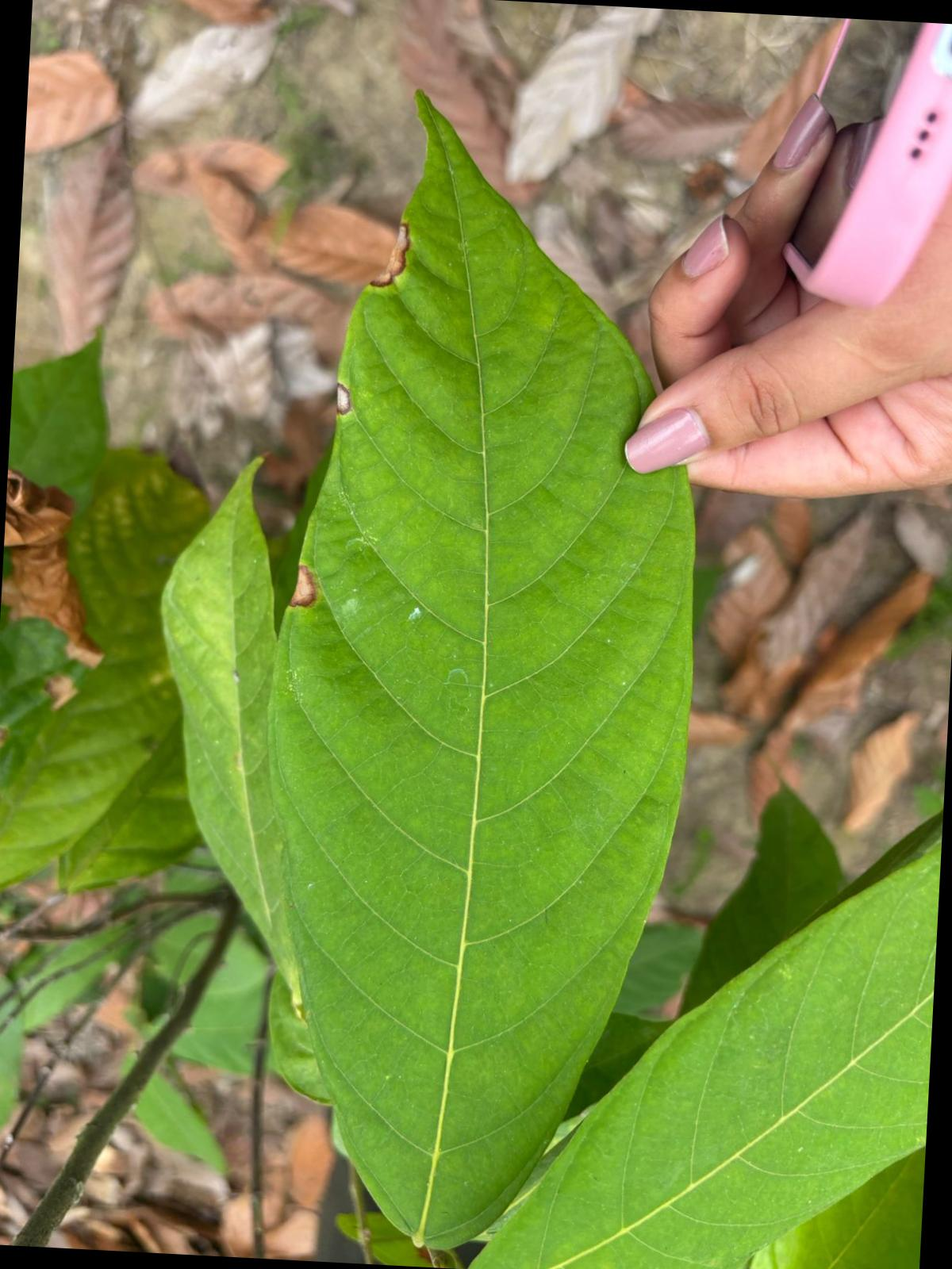Potasio: (270, 98, 695, 1248)
